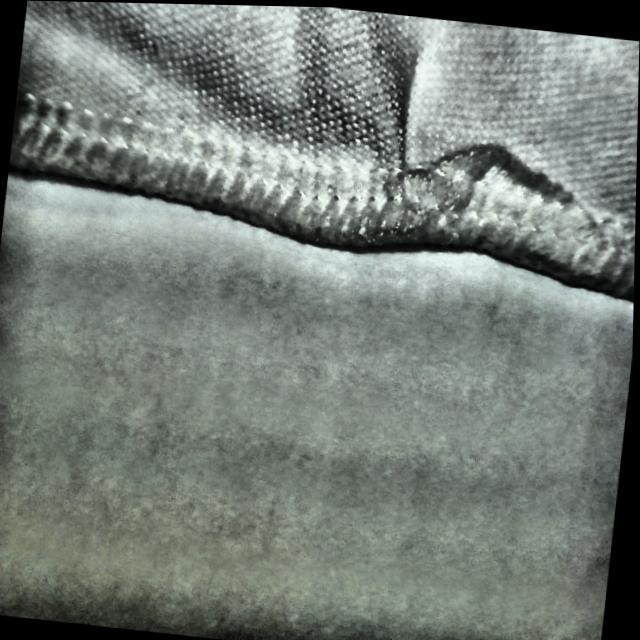seam: (337, 51, 589, 267)
